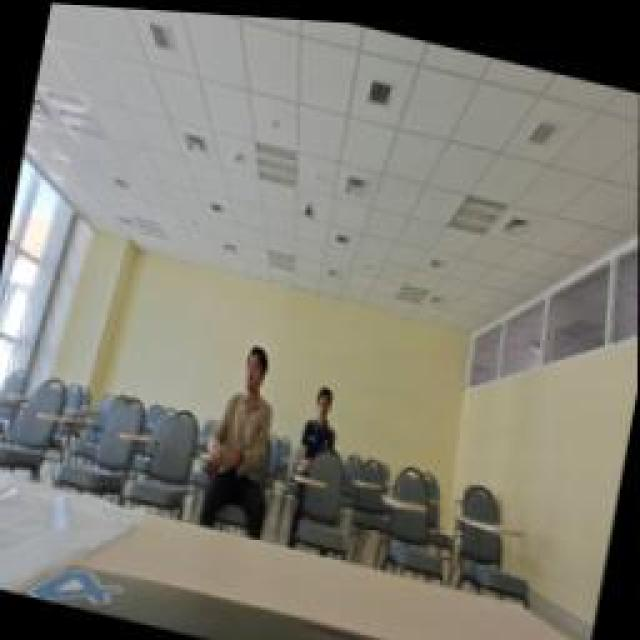study: (195, 335, 293, 533), (293, 380, 345, 478)
